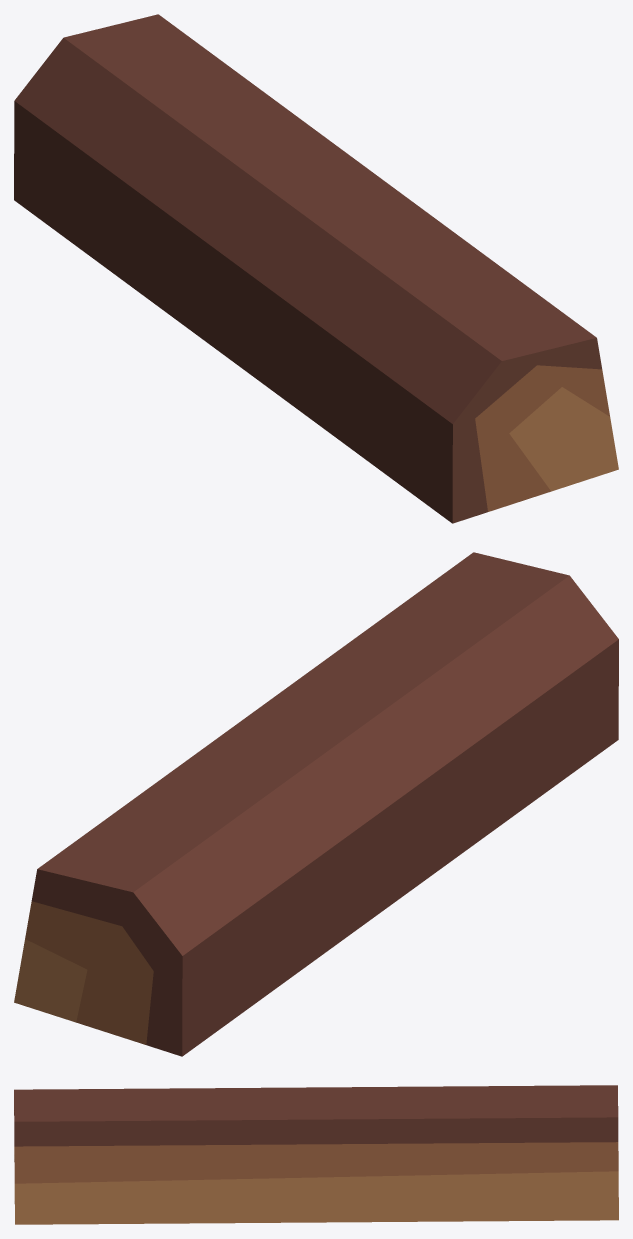
The model's file is deck_quarter.fbx.
The picture shows the model from 3 angles, top to bottom: view 1: azimuth 30°, elevation 25°; view 2: azimuth 150°, elevation 25°; view 3: azimuth 270°, elevation 25°; orthographic projection. The views are drawn at different scales.
Parts seen in each view (by area): view 1: deck_quarter; view 2: deck_quarter; view 3: deck_quarter.
Part boxes in pixels (x1,y1,x2,y2): deck_quarter: [14, 14, 618, 523]; deck_quarter: [14, 552, 618, 1056]; deck_quarter: [14, 1085, 618, 1224].
Bounding box in the file's own units: 0.0872 × 0.0768 × 0.3896.
